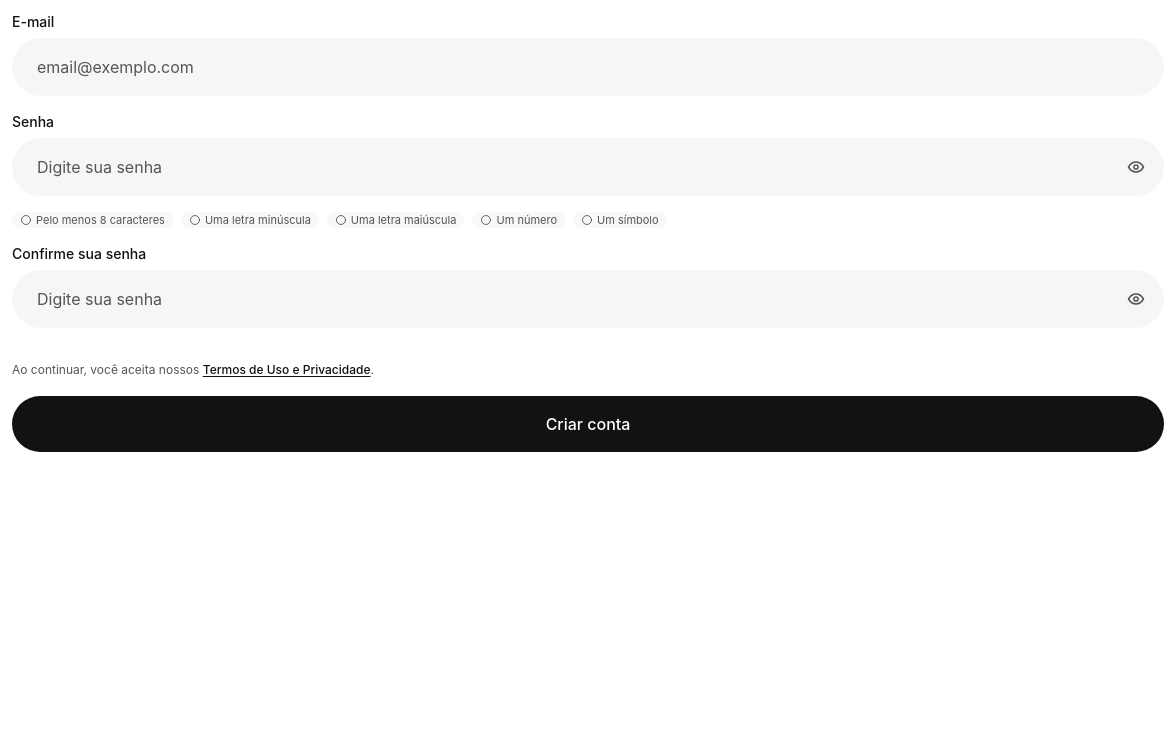
SignUpForm › falls back to a generic toast when the backend error code is unmapped
Type "person@example.com" into the field labelled "E-mail".
click(588, 67); type("person@example.com")  # box [12,38,1164,96]
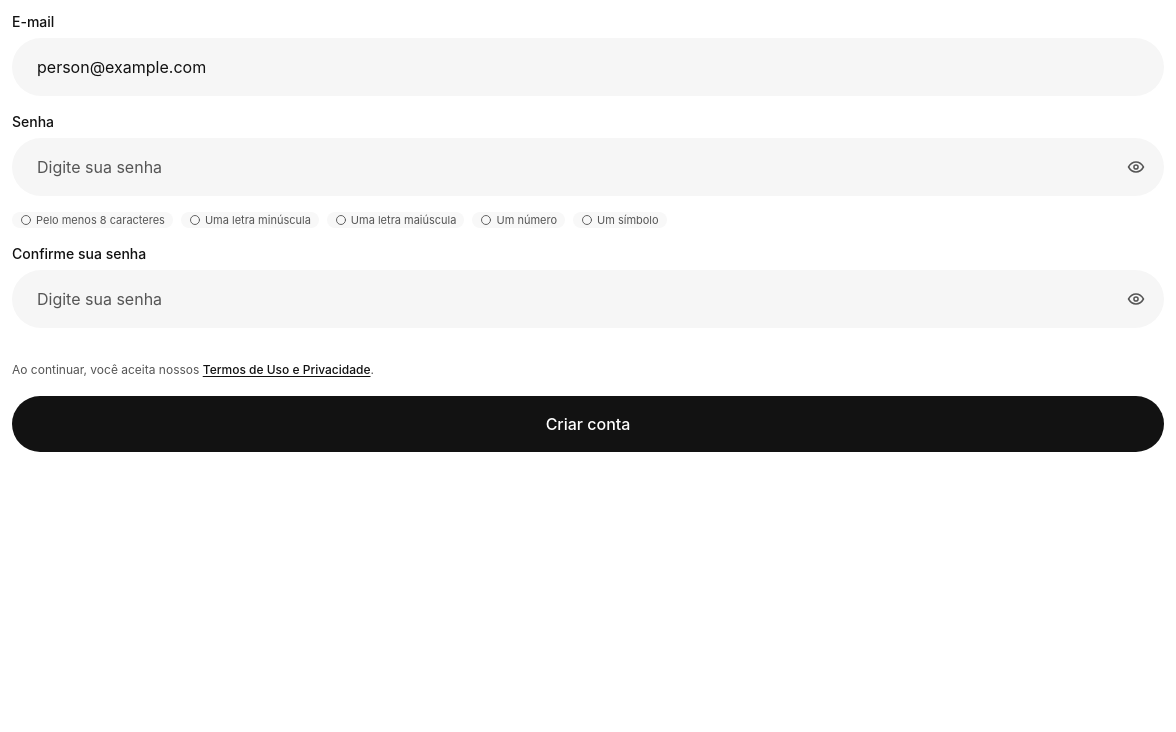
Type "Valid_password1!" into the password field labelled "Senha".
click(588, 167); type("Valid_password1!")  # box [12,138,1164,196]
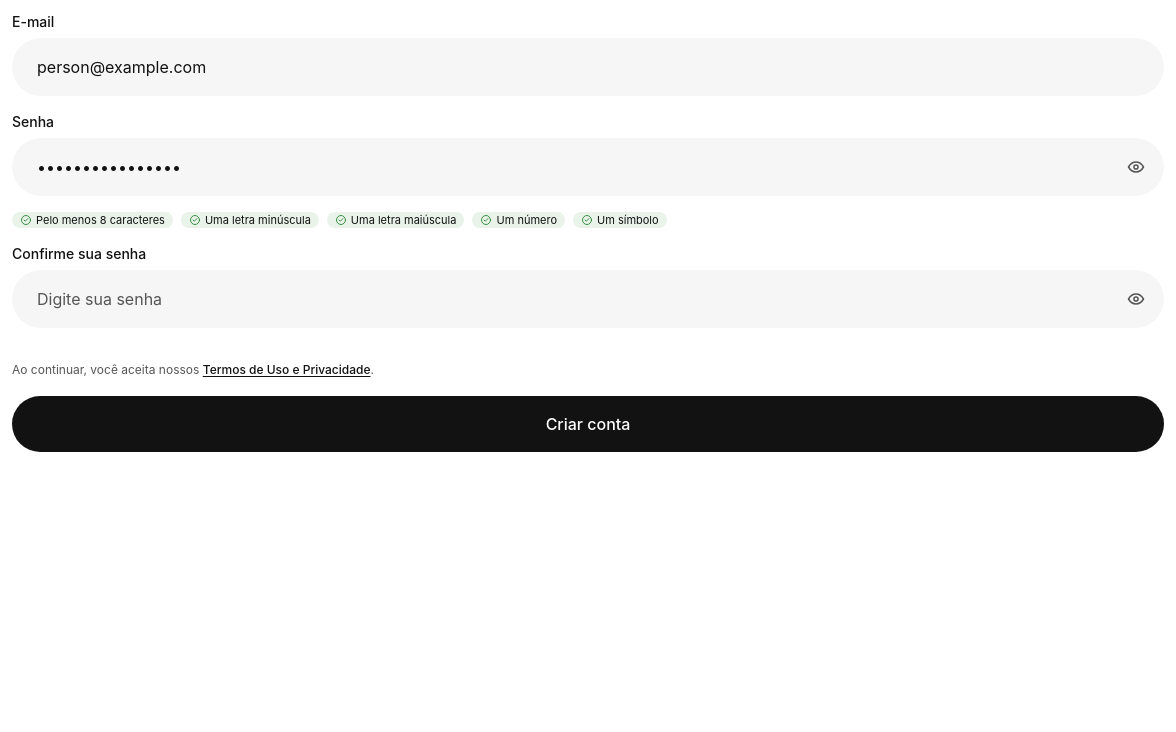
Type "Valid_password1!" into the password field labelled "Confirme sua senha".
click(588, 299); type("Valid_password1!")  # box [12,270,1164,328]
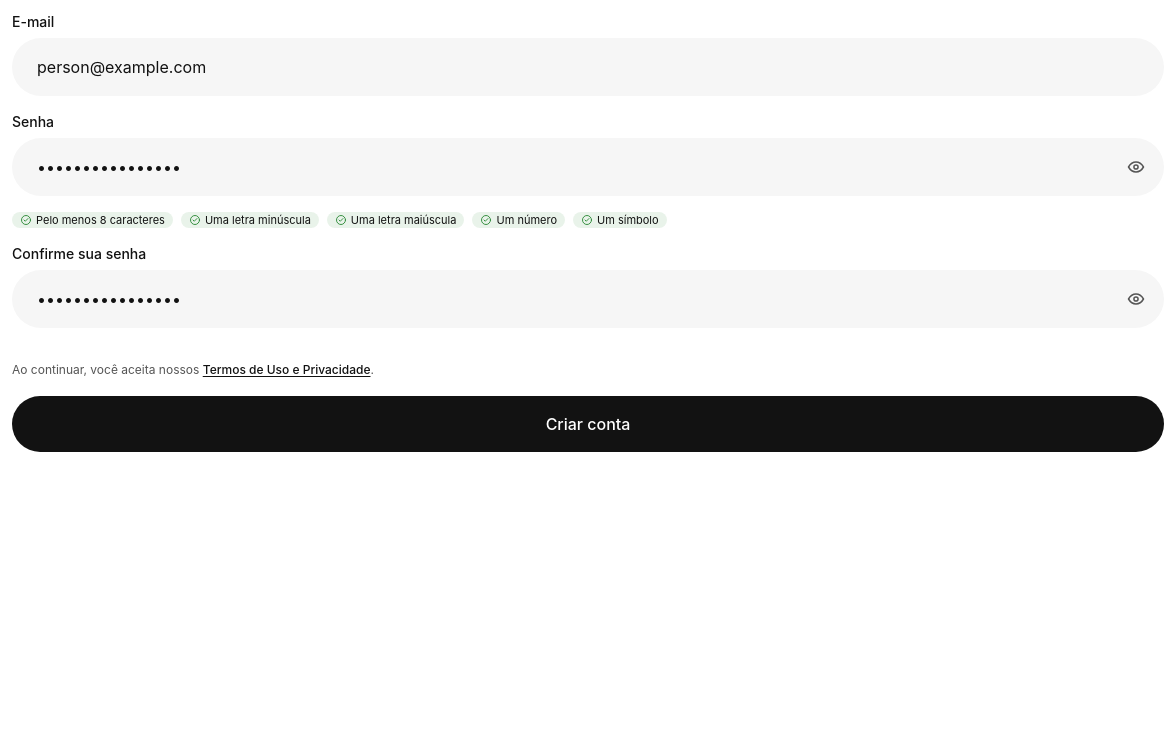
Click the button "Criar conta".
click(588, 424)  # box [12,396,1164,452]
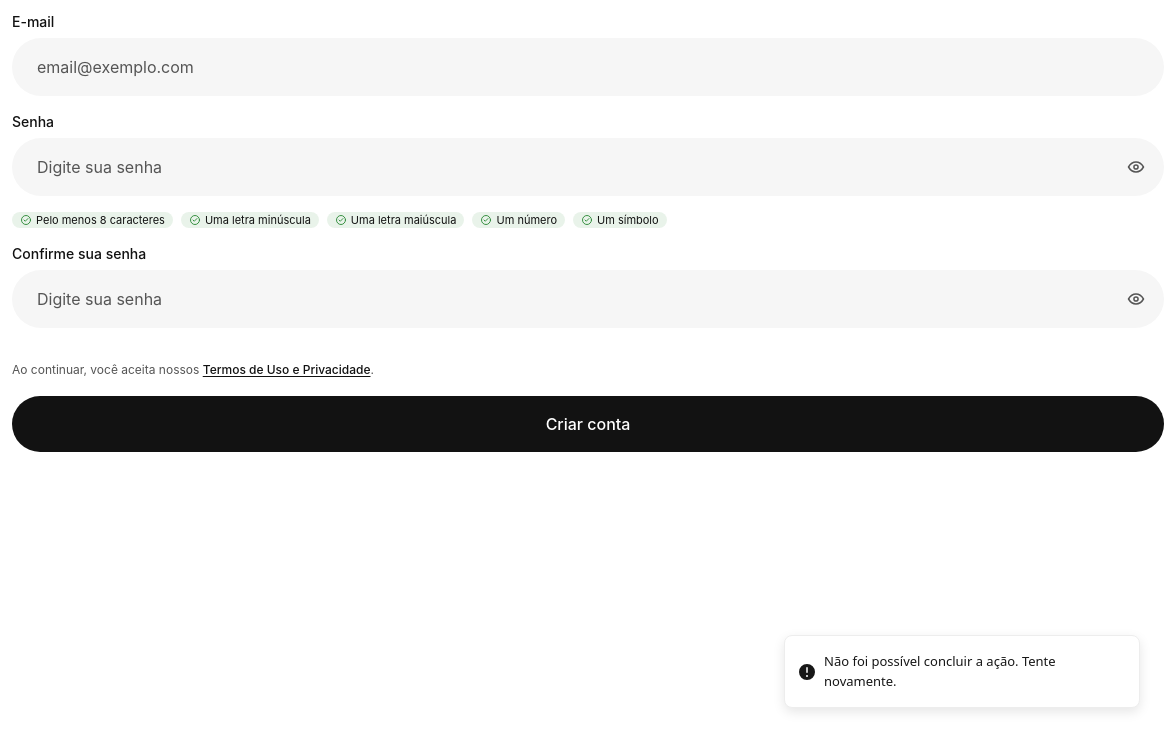
Expected: the text "Não foi possível concluir a ação. Tente novamente." is shown, [824,652,1056,690]
